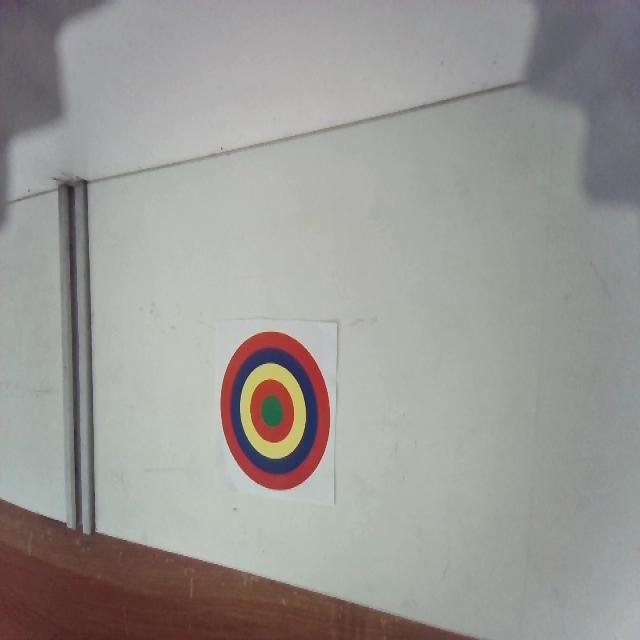cogn: (220, 330, 332, 493)
